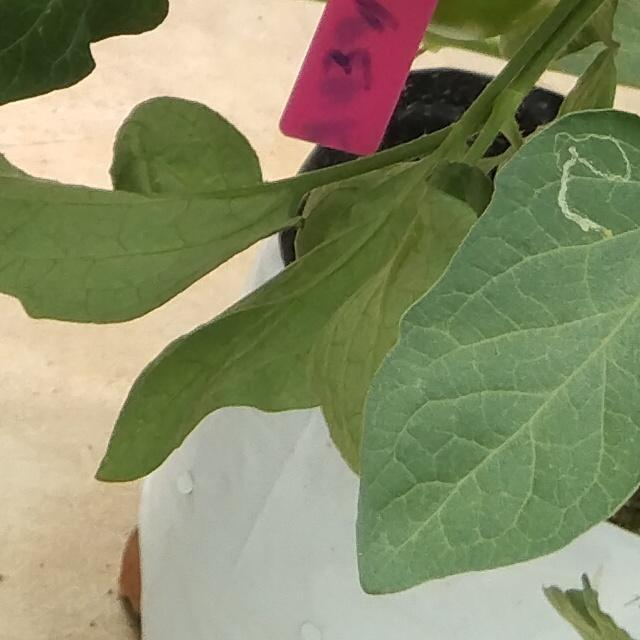Leaf_Miner: (354, 96, 640, 598)
